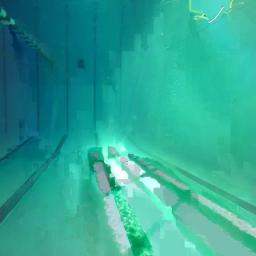Full: (77, 64, 85, 69)
